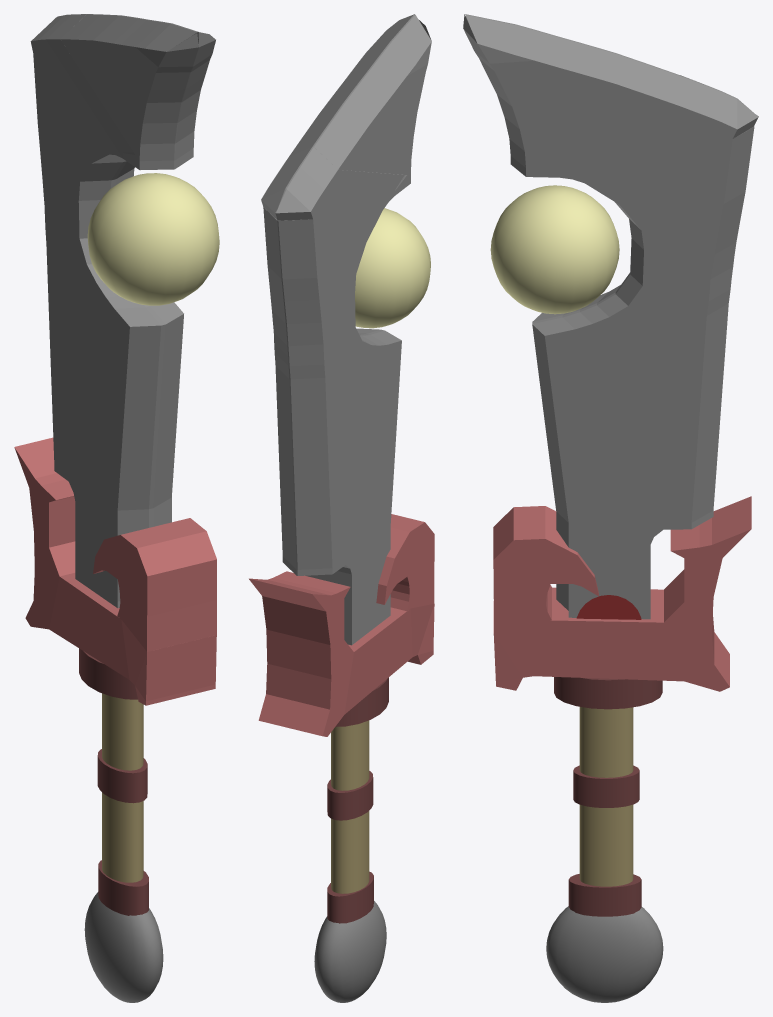
The model's file is WoW-Sword.fbx.
The picture shows the model from 3 angles, left to right: view 1: azimuth 30°, elevation 25°; view 2: azimuth 150°, elevation 25°; view 3: azimuth 270°, elevation 25°; orthographic projection. The views are drawn at different scales.
Visible parts, largest first — view 1: pasted__pCube2, pasted__pCube1, pSphere1, pasted__pCylinder1 (×2), pasted__pSphere1, pasted__pasted__pCylinder1, pCylinder1; view 2: pasted__pCube2, pasted__pCube1, pasted__pCylinder1 (×2), pSphere1, pasted__pSphere1, pasted__pasted__pCylinder1, pCylinder1; view 3: pasted__pCube2, pasted__pCube1, pSphere1, pasted__pCylinder1 (×2), pasted__pSphere1, pCylinder1, pasted__pasted__pCylinder1, pDisc1.
Boxes of the visible parts, x1,y1,x2,y2 form: pasted__pCube2: (30, 14, 215, 608); pasted__pCube1: (14, 437, 216, 705); pSphere1: (87, 173, 219, 305); pasted__pCylinder1 (×2): (97, 693, 147, 882); pasted__pSphere1: (84, 892, 163, 1002); pasted__pasted__pCylinder1: (98, 860, 148, 915); pCylinder1: (79, 648, 137, 699); pasted__pCube2: (261, 14, 431, 645); pasted__pCube1: (249, 514, 434, 736); pasted__pCylinder1 (×2): (327, 720, 373, 893); pSphere1: (355, 208, 430, 328); pasted__pSphere1: (314, 901, 386, 1002); pasted__pasted__pCylinder1: (327, 871, 373, 923); pCylinder1: (335, 677, 388, 726); pasted__pCube2: (463, 14, 758, 619); pasted__pCube1: (493, 496, 751, 691); pSphere1: (490, 185, 619, 314); pasted__pCylinder1 (×2): (573, 707, 639, 886); pasted__pSphere1: (546, 906, 663, 1002); pCylinder1: (554, 677, 662, 709); pasted__pasted__pCylinder1: (568, 874, 641, 916); pDisc1: (576, 595, 641, 619).
Size of the model in its own units: 0.7248 by 6.13 by 1.66.
